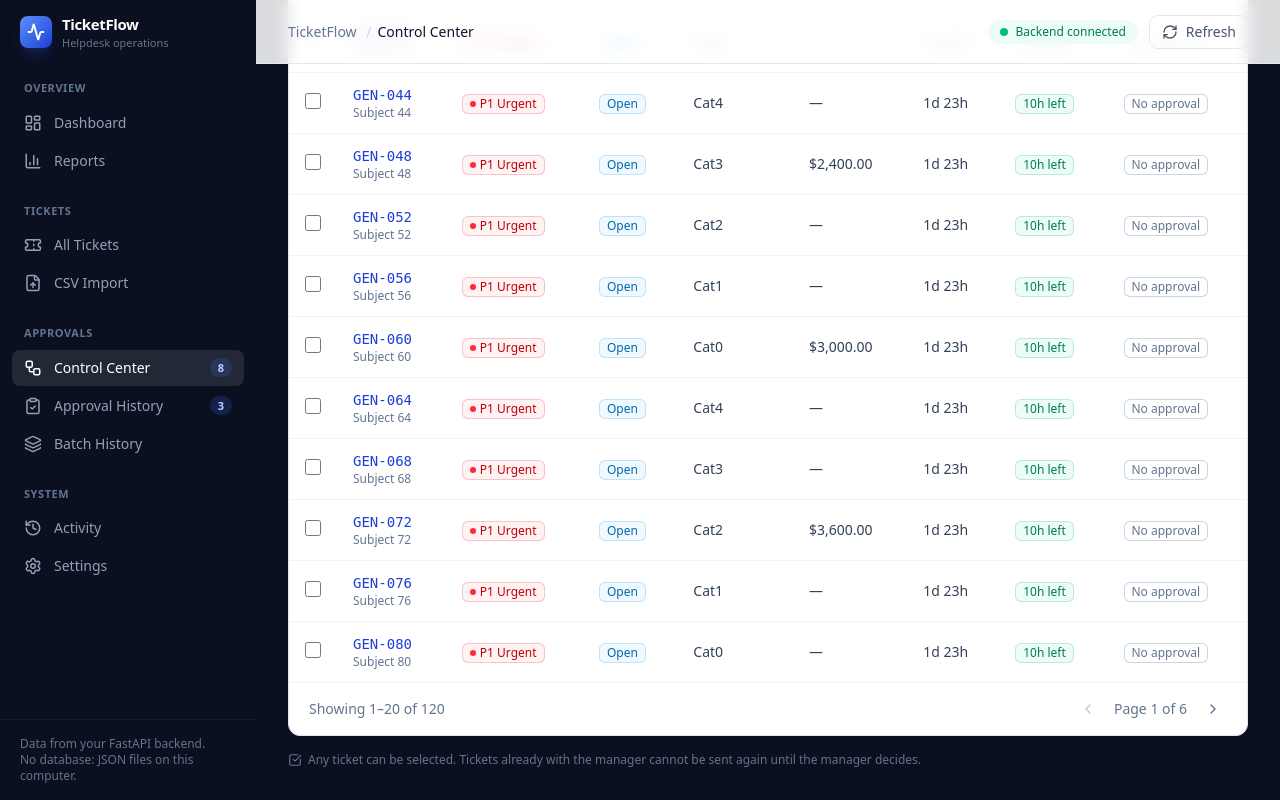
Test case: Control Center: All tickets › shows every imported ticket with the count from the backend
The image size is (1280, 800).
(page scrolled)
Expected: the text "Showing 1–20 of 120" is shown, x1=309 y1=699 x2=445 y2=719
Click the button named "Next page".
click(1213, 709)  # box x1=1199 y1=695 x2=1227 y2=723
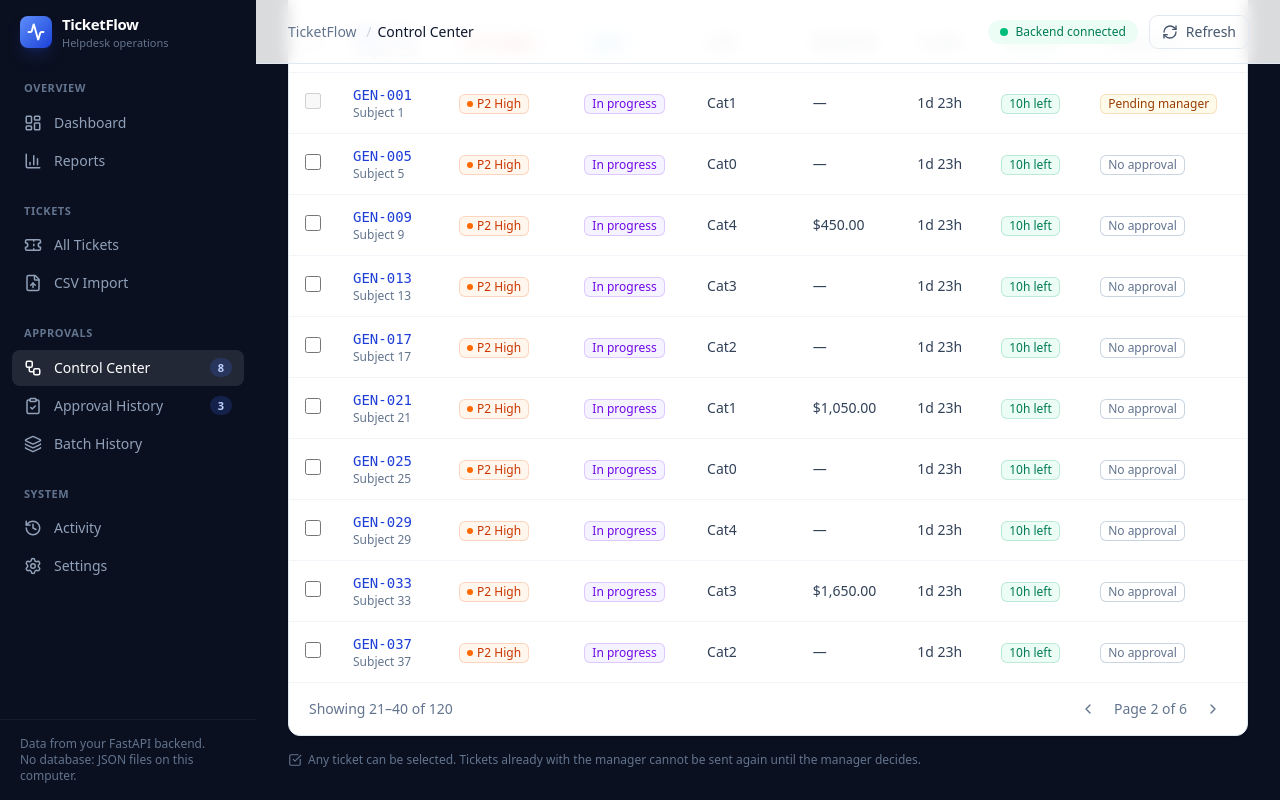
Result: the text "Showing 21–40 of 120" is shown at x1=309 y1=699 x2=453 y2=719
